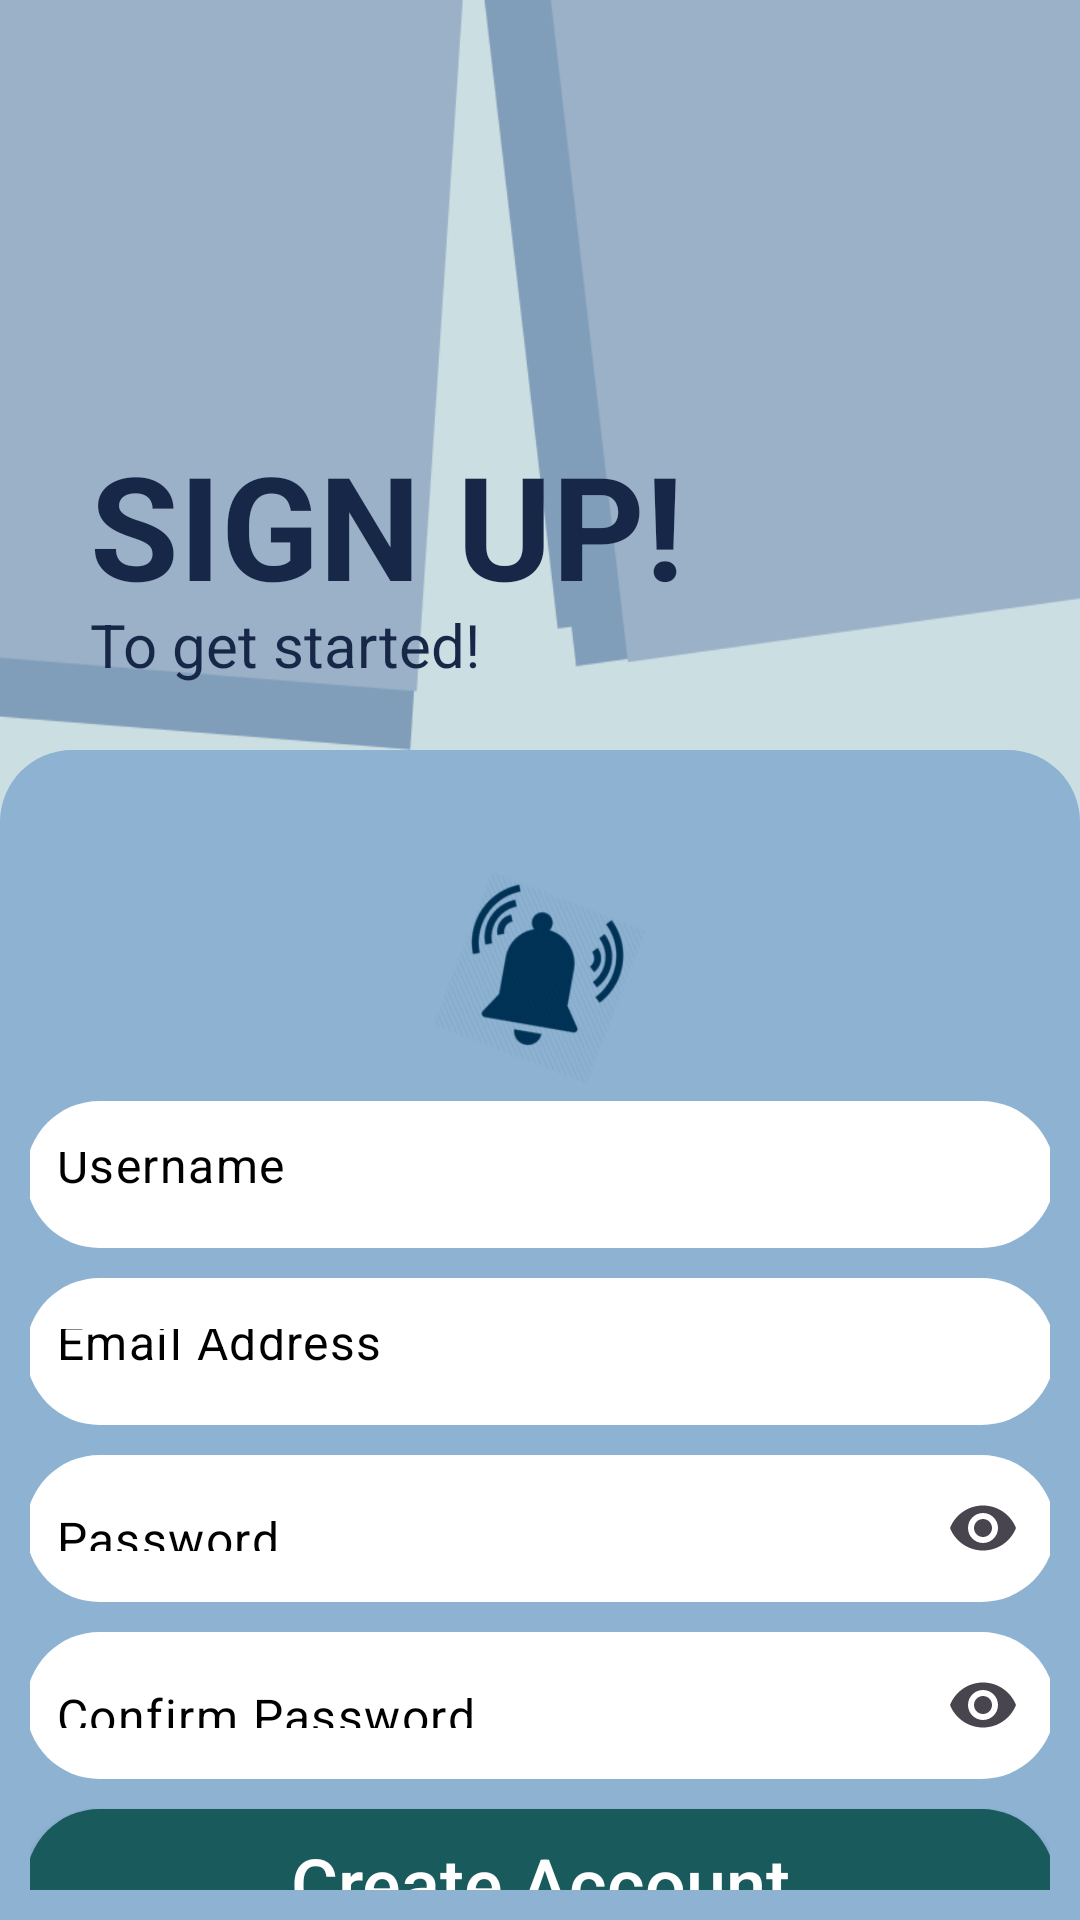

Icons on this 1080 × 1920 Android screen, each with its box as bbox(x1, y1, x2, y2):
bell auth: bbox(471, 884, 624, 1045)
